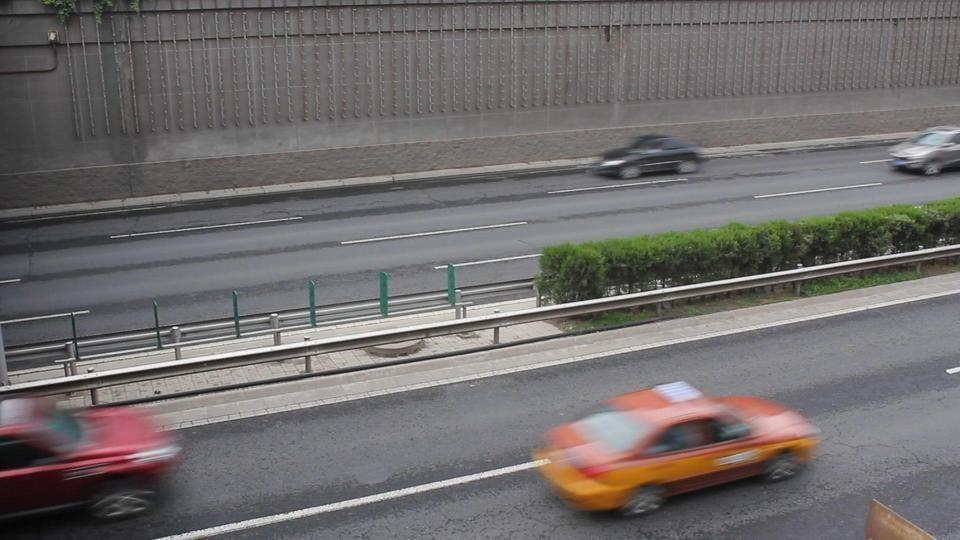car: (531, 380, 823, 518), (1, 395, 184, 523), (590, 134, 703, 179), (887, 127, 960, 176)
